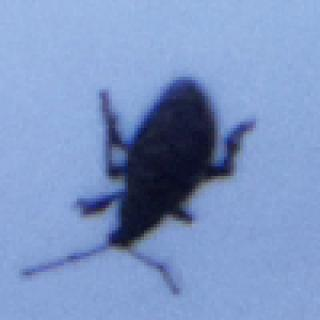bvw: (21, 76, 256, 298)
